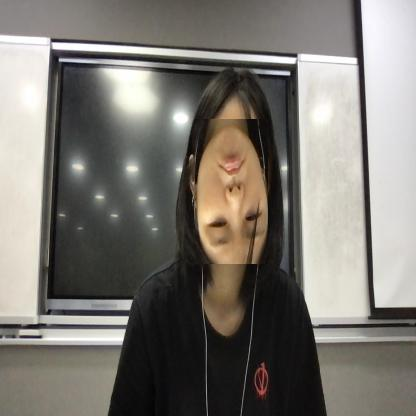sad: (195, 119, 269, 265)
